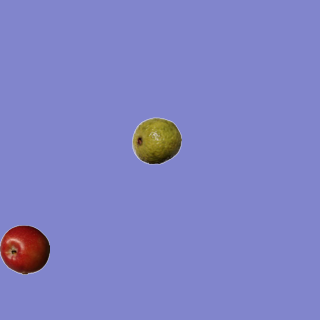Apple Braeburn: (0, 224, 49, 274)
Guava: (131, 115, 181, 165)
